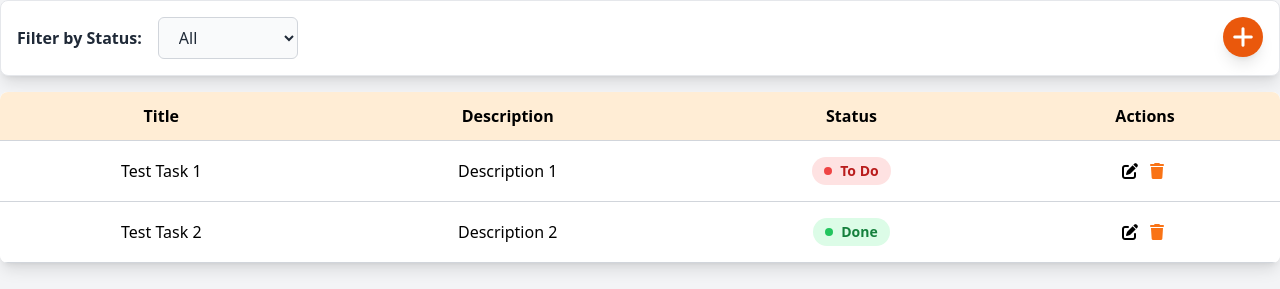
Scenario: Table.vue › deletes task correctly
Click the button with class "fa-trash".
click(1159, 171)  # box [1150,163,1168,179]
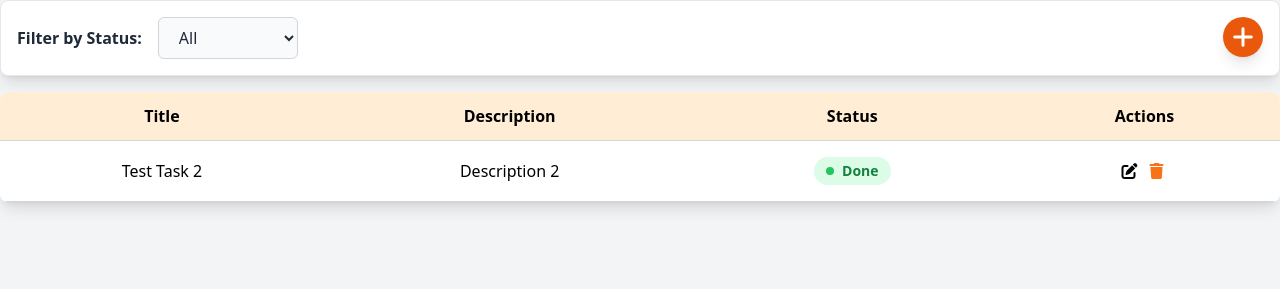
Now the cell no longer shows "Test Task 1"
